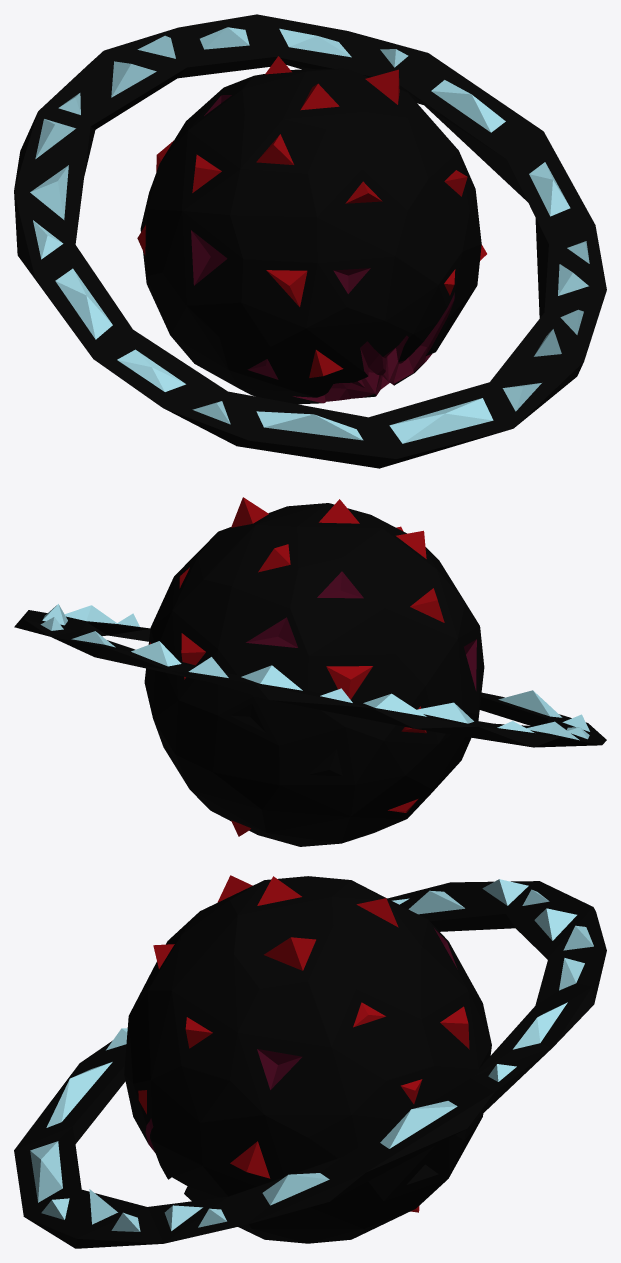
The model's file is Planet7.glb.
The picture shows the model from 3 angles, top to bottom: view 1: azimuth 30°, elevation 25°; view 2: azimuth 150°, elevation 25°; view 3: azimuth 270°, elevation 25°; orthographic projection. The views are drawn at different scales.
Parts seen in each view (by area): view 1: Planet_07; view 2: Planet_07; view 3: Planet_07.
Boxes of the visible parts, box(x1,y1,x2,y2) form: Planet_07: box(14, 14, 606, 468); Planet_07: box(14, 497, 606, 846); Planet_07: box(14, 875, 606, 1248).
Bounding box in the file's own units: 5.29 × 3.11 × 4.84.
